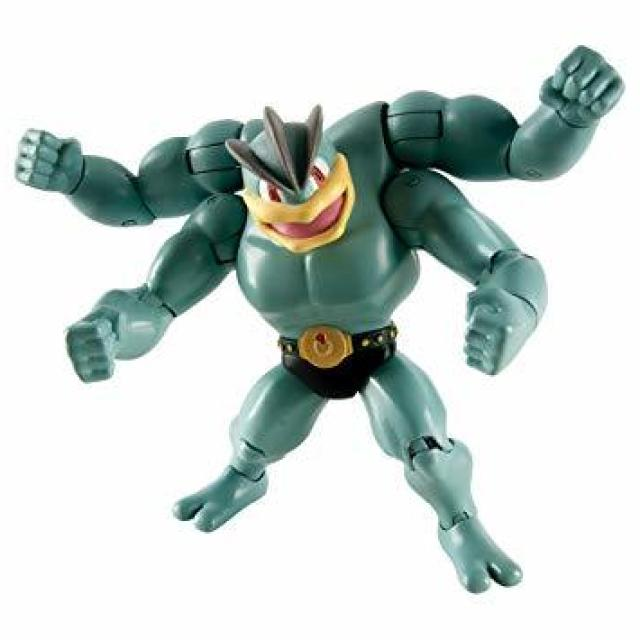Machamp: (124, 81, 544, 548)
